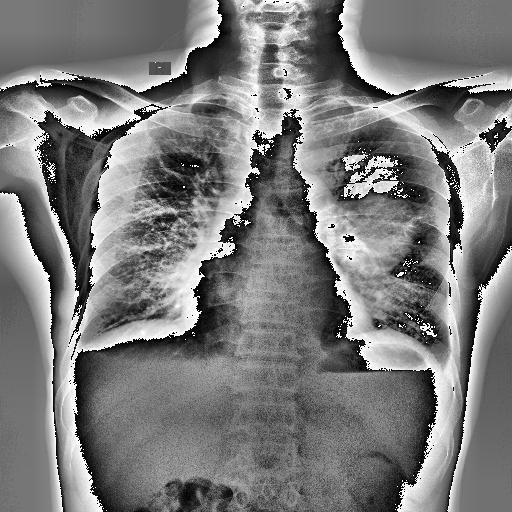10- Pleural effusion: (70, 337, 126, 366), (76, 333, 123, 354)
11- Pleural thickening: (70, 337, 126, 366), (76, 333, 123, 354), (194, 94, 241, 102), (194, 94, 240, 102)
8- Nodule-Mass: (314, 193, 424, 279), (325, 192, 417, 274), (326, 200, 416, 278)
